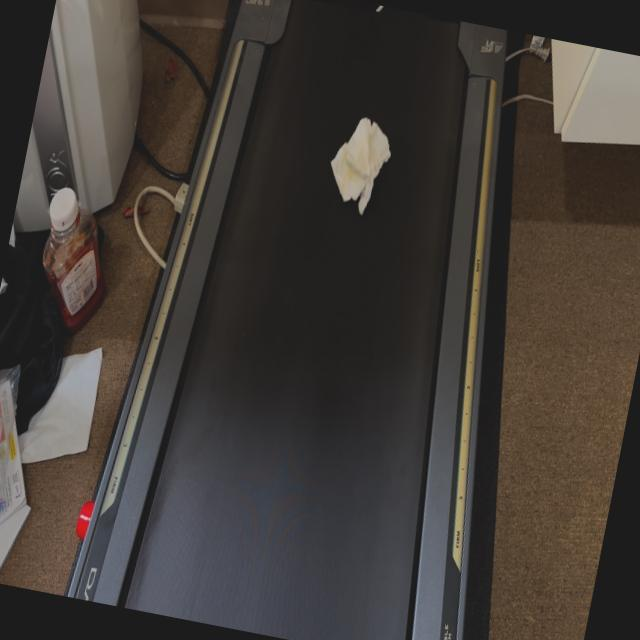Recycle: (322, 113, 398, 220)
